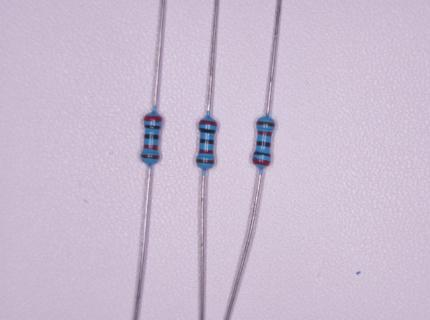Black band: (254, 151, 271, 157), (200, 128, 216, 134), (143, 134, 158, 140), (145, 125, 161, 129), (258, 142, 270, 147), (200, 140, 214, 144)
Brown band: (257, 120, 275, 127), (142, 155, 159, 159), (197, 160, 214, 164)
Red band: (254, 157, 270, 166), (144, 116, 162, 122), (201, 120, 217, 126), (144, 145, 158, 150), (258, 131, 272, 136), (199, 150, 213, 154)
